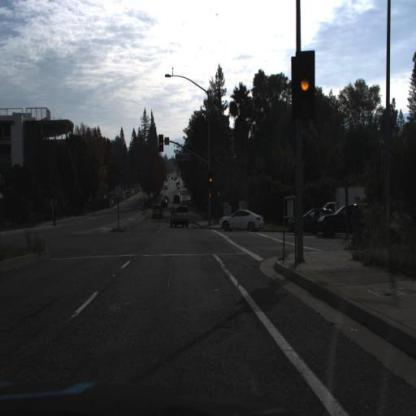car: (314, 200, 377, 236), (318, 203, 369, 238), (286, 201, 328, 236), (321, 184, 374, 210), (218, 208, 265, 232), (167, 204, 192, 228), (150, 202, 164, 219), (172, 192, 180, 206)
trafficLight-Yellow: (296, 51, 314, 113), (157, 134, 164, 152), (207, 170, 213, 187)
truck: (322, 186, 367, 220)
